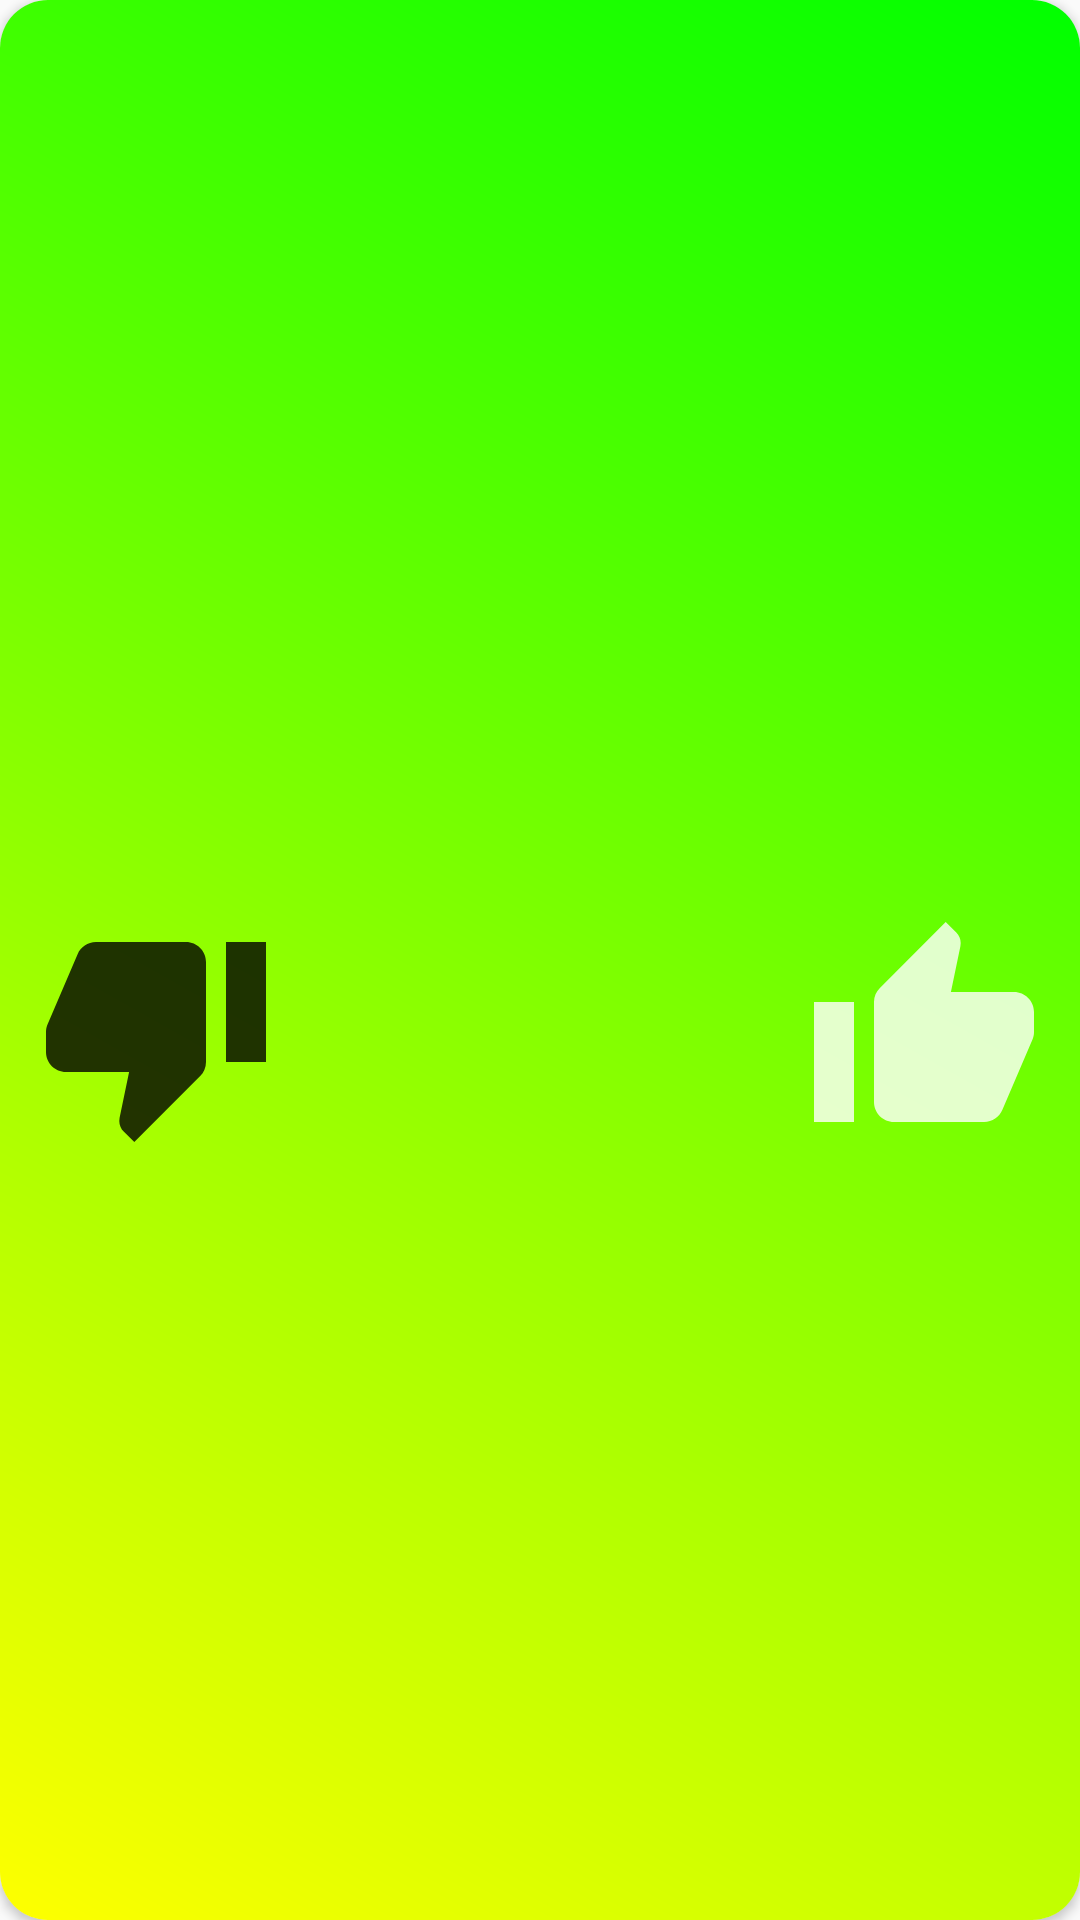

Where to tap for icons on this 1080px x 1920px app screen, as (x,y):
Interested: (919,1037)
Not interested: (161,1027)
